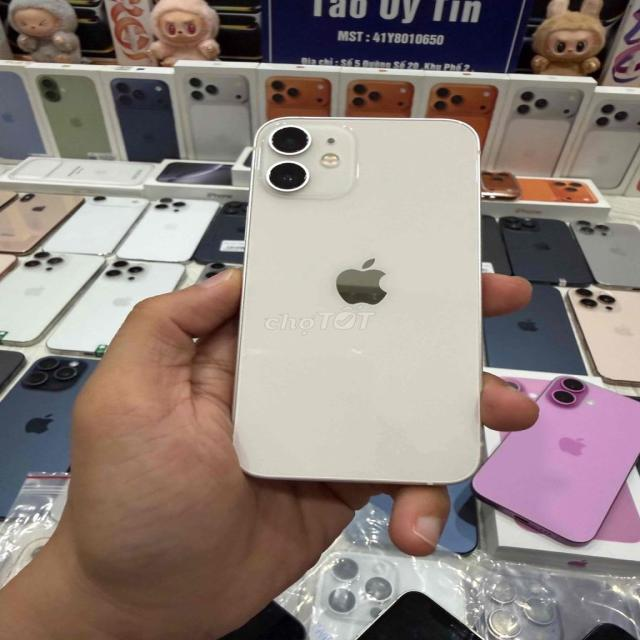gen_12_13: (226, 114, 486, 490)
